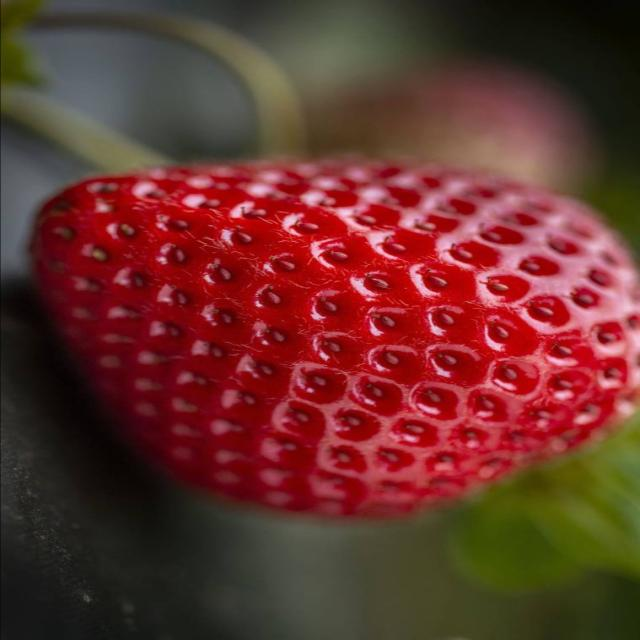strawberry: (0, 136, 640, 575)
